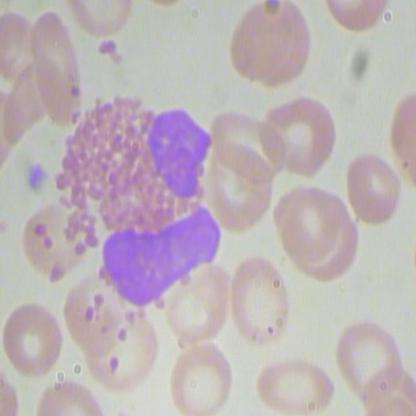Platelets: (18, 158, 53, 196)
RBC: (226, 1, 314, 90), (26, 11, 84, 129), (225, 251, 292, 353), (206, 102, 286, 184), (160, 258, 229, 348), (20, 205, 96, 285), (165, 339, 242, 415), (328, 314, 401, 394), (54, 278, 124, 358), (3, 300, 65, 378), (249, 358, 335, 414), (344, 151, 402, 225)
WBC: (48, 94, 218, 311)
